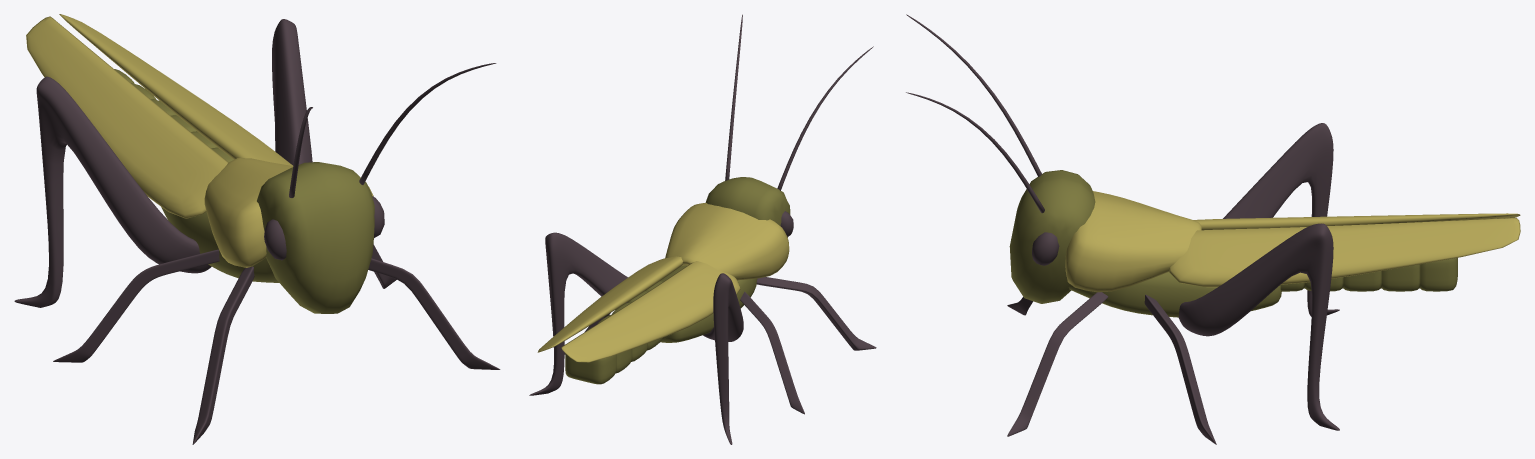
The model's file is grasshopper.fbx.
3 renders of one model, left to right at view 1: azimuth 30°, elevation 25°; view 2: azimuth 150°, elevation 25°; view 3: azimuth 270°, elevation 25°, orthographic. The views are drawn at different scales.
Visible parts, largest first — view 1: armor, wings, wings.2; view 2: armor, wings, wings.2; view 3: armor, wings.2, wings.
Boxes of the visible parts, left/top/right/bottom form: armor: left=14, top=19, right=500, bottom=444; wings: left=26, top=16, right=228, bottom=218; wings.2: left=59, top=14, right=292, bottom=165; armor: left=529, top=14, right=876, bottom=444; wings: left=561, top=261, right=740, bottom=362; wings.2: left=537, top=256, right=682, bottom=352; armor: left=906, top=14, right=1457, bottom=444; wings.2: left=1169, top=217, right=1520, bottom=287; wings: left=1193, top=213, right=1520, bottom=230.
Bounding box in the file's own units: 304 × 307 × 536.
